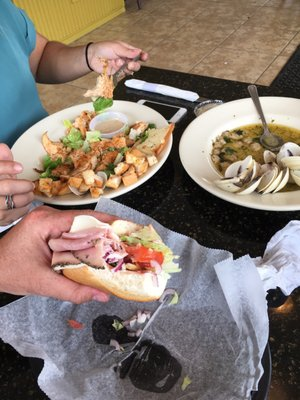salad: (247, 85, 284, 153)
sushi: (178, 98, 300, 209)
